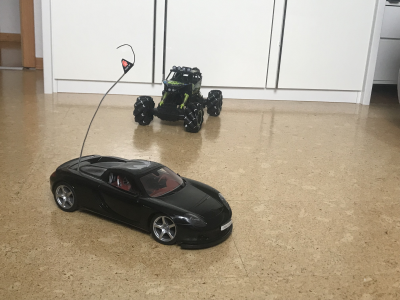remote control car: (131, 64, 225, 133)
